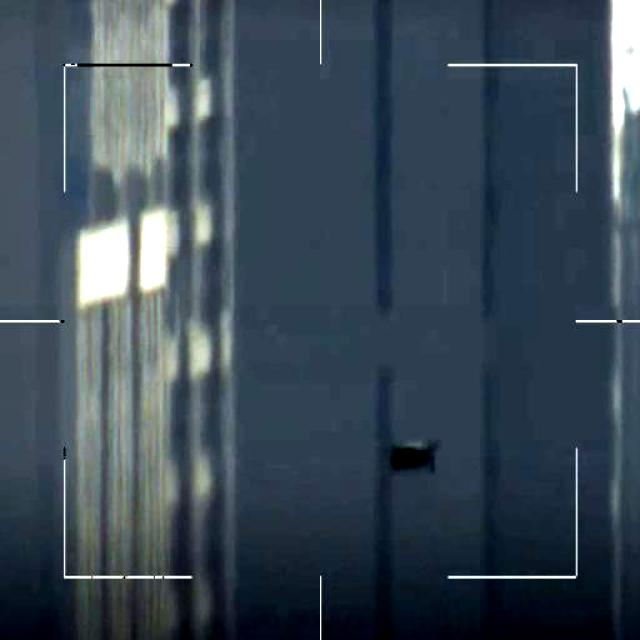bird: (385, 440, 431, 474)
